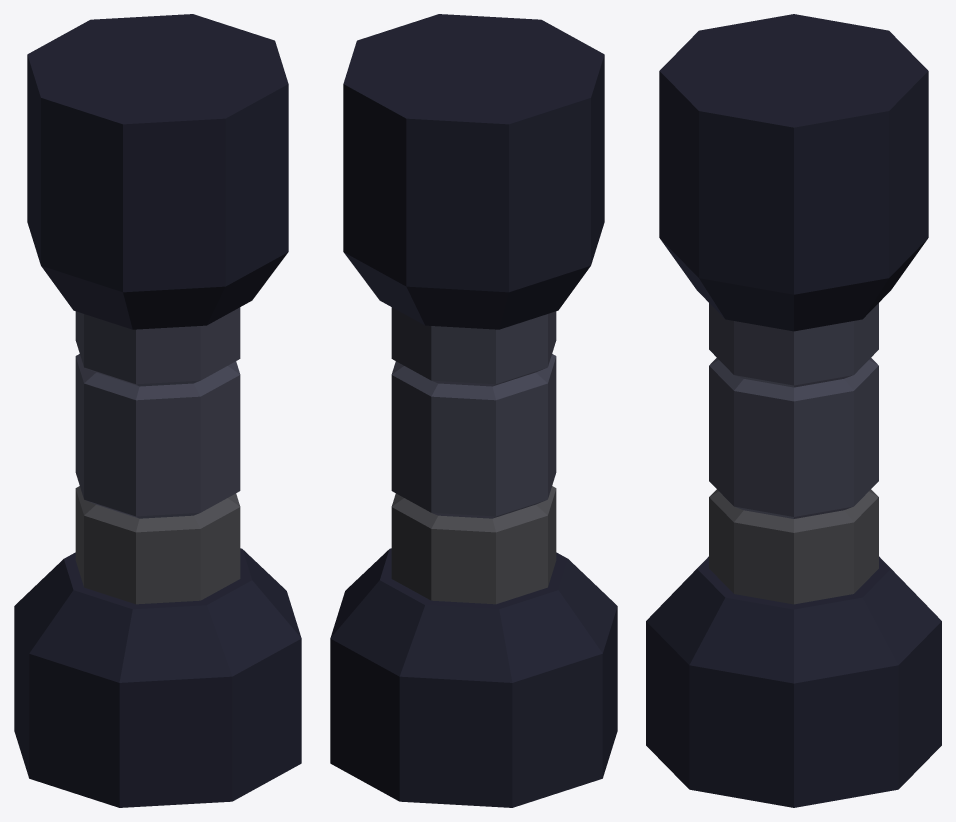
Rendered from Pillar_Small.fbx.
The picture shows the model from 3 angles, left to right: view 1: azimuth 30°, elevation 25°; view 2: azimuth 150°, elevation 25°; view 3: azimuth 270°, elevation 25°; orthographic projection.
Parts seen in each view (by area): view 1: 1-Pillar_Small; view 2: 1-Pillar_Small; view 3: 1-Pillar_Small.
Boxes of the visible parts, x1,y1,x2,y2 form: 1-Pillar_Small: (14, 14, 301, 807); 1-Pillar_Small: (330, 14, 617, 807); 1-Pillar_Small: (646, 14, 941, 807).
Size of the model in its own units: 1.19 by 1.19 by 3.
